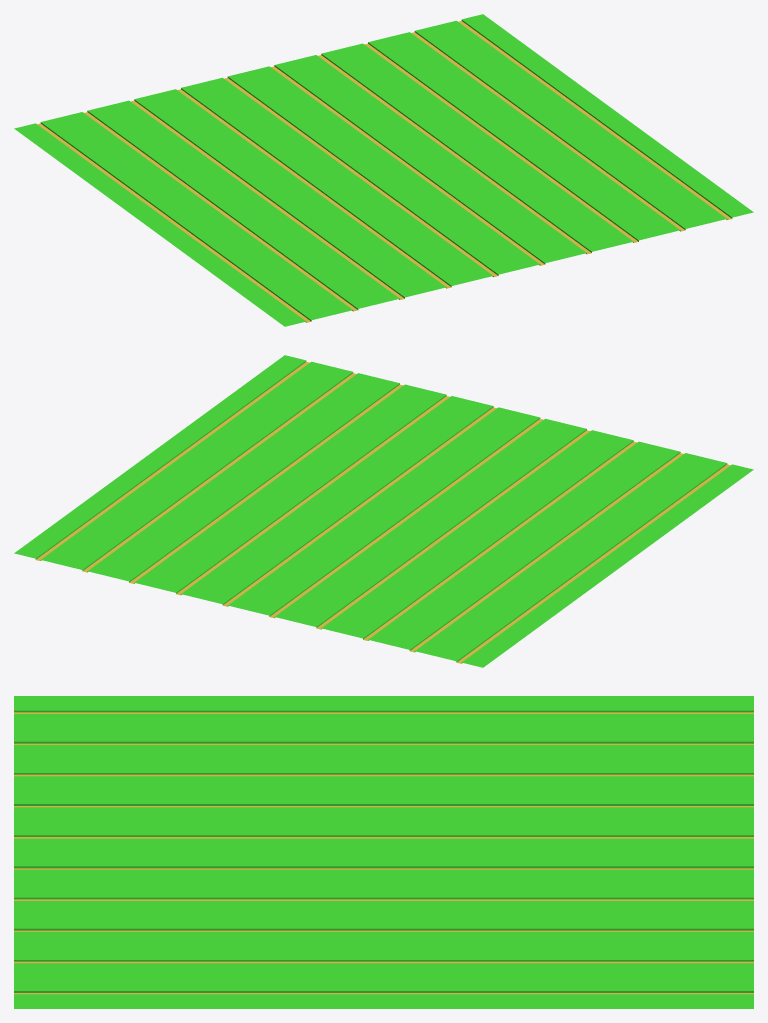
The model's file is Floor_014_Middle.fbx.
The picture shows the model from 3 angles, top to bottom: view 1: azimuth 30°, elevation 25°; view 2: azimuth 150°, elevation 25°; view 3: azimuth 270°, elevation 25°; orthographic projection. The views are drawn at different scales.
Visible parts, largest first — view 1: Floor_014_Middle; view 2: Floor_014_Middle; view 3: Floor_014_Middle.
Part boxes in pixels (box(x1,y1,x2,y2)): Floor_014_Middle: box(14, 14, 753, 326); Floor_014_Middle: box(14, 355, 753, 667); Floor_014_Middle: box(14, 696, 753, 1008).
Bounding box in the file's own units: 457 × 1.27 × 457.
